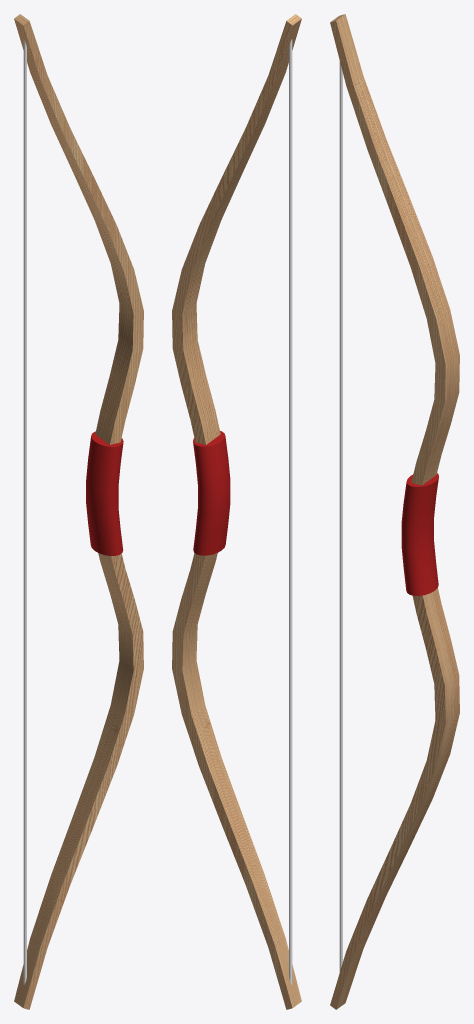
File: longbow.FBX
3 views of the same model, side by side, from view 1: azimuth 30°, elevation 25°; view 2: azimuth 150°, elevation 25°; view 3: azimuth 330°, elevation 25° (orthographic).
Parts seen in each view (by area): view 1: longbow; view 2: longbow; view 3: longbow.
Boxes of the visible parts, x1,y1,x2,y2 form: longbow: [14, 14, 143, 1009]; longbow: [172, 14, 301, 1009]; longbow: [330, 14, 459, 1009].
Bounding box in the file's own units: 2.7 × 21.59 × 0.8257.
1 material, 1 textured.
